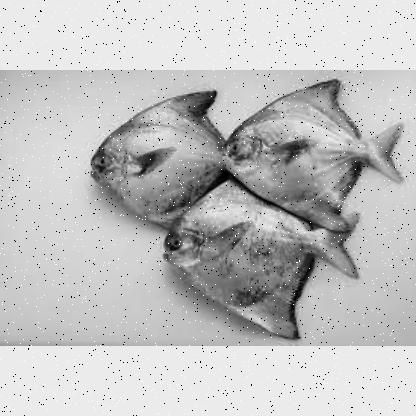ikan-pacu: (237, 76, 389, 208), (163, 202, 333, 320), (91, 90, 225, 218)
